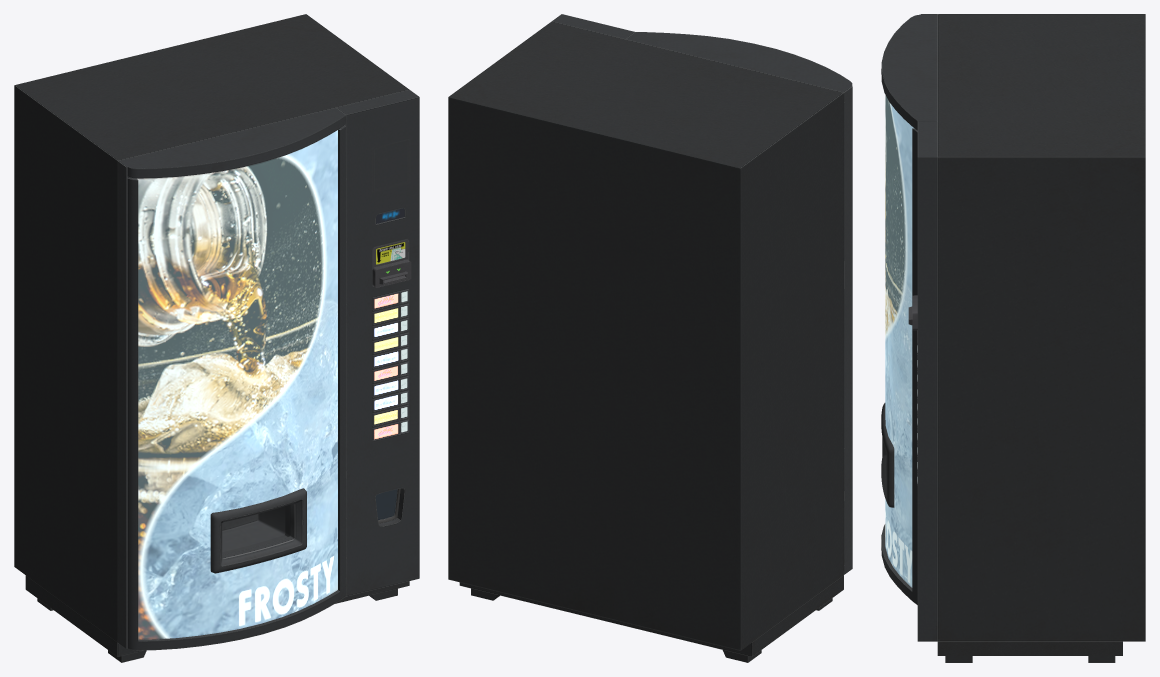
Rendered from vending_machine.glb.
3 renders of one model, left to right at view 1: azimuth 30°, elevation 25°; view 2: azimuth 150°, elevation 25°; view 3: azimuth 270°, elevation 25°, orthographic.
Visible parts, largest first — view 1: frontVendorDoor_lp, vendingMachineBody_lp, controlPanel_lp, drinkChute_lp, drinkSelections_lp, base_lp, billAcceptor_lp, changeDoor_lp; view 2: vendingMachineBody_lp, frontVendorDoor_lp, base_lp, controlPanel_lp; view 3: vendingMachineBody_lp, frontVendorDoor_lp, controlPanel_lp, base_lp, drinkChute_lp.
Boxes of the visible parts, x1,y1,x2,y2 form: frontVendorDoor_lp: (117, 107, 345, 650); vendingMachineBody_lp: (14, 14, 408, 642); controlPanel_lp: (336, 89, 419, 596); drinkChute_lp: (210, 488, 306, 573); drinkSelections_lp: (372, 289, 408, 440); base_lp: (25, 575, 409, 662); billAcceptor_lp: (372, 239, 411, 287); changeDoor_lp: (375, 488, 400, 523); vendingMachineBody_lp: (448, 21, 843, 650); frontVendorDoor_lp: (626, 32, 852, 574); base_lp: (459, 575, 843, 662); controlPanel_lp: (552, 14, 634, 39); vendingMachineBody_lp: (937, 14, 1145, 641); frontVendorDoor_lp: (881, 14, 937, 604); controlPanel_lp: (917, 121, 937, 641); base_lp: (937, 641, 1122, 662); drinkChute_lp: (881, 403, 894, 507).
Bounding box in the file's own units: 1.22 × 2.02 × 0.9506.
1 material, 1 textured.
